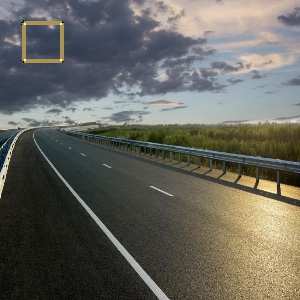square: (19, 19, 68, 67)
